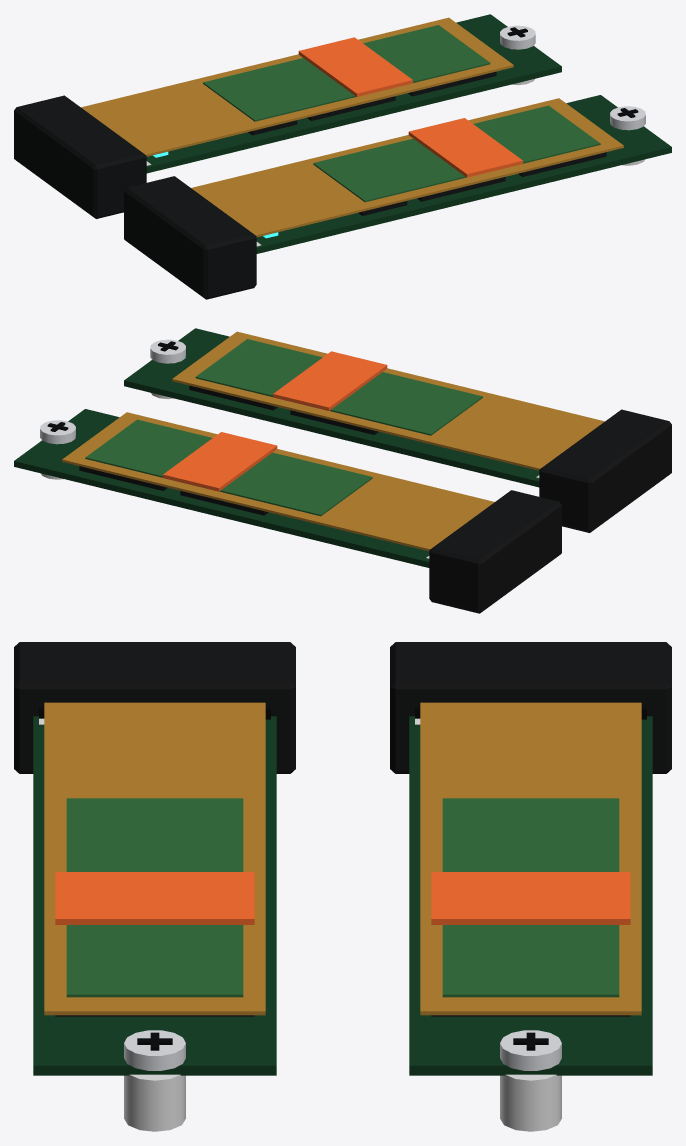
File: hwm_sto_ssd_480gb.glb
The picture shows the model from 3 angles, top to bottom: view 1: azimuth 30°, elevation 25°; view 2: azimuth 150°, elevation 25°; view 3: azimuth 270°, elevation 25°; orthographic projection. The views are drawn at different scales.
Parts seen in each view (by area): view 1: SSD_0, SSD_1, Slots, Screw_0, Screw_1; view 2: SSD_1, SSD_0, Slots, Screw_1, Screw_0; view 3: SSD_0, SSD_1, Slots, Screw_0, Screw_1.
Part boxes in pixels (x1=…): SSD_0: x1=81, y1=14, x2=561, y2=173; SSD_1: x1=191, y1=95, x2=671, y2=253; Slots: x1=14, y1=45, x2=645, y2=299; Screw_0: x1=500, y1=25, x2=535, y2=49; Screw_1: x1=610, y1=106, x2=645, y2=130; SSD_1: x1=124, y1=328, x2=604, y2=487; SSD_0: x1=14, y1=409, x2=494, y2=567; Slots: x1=40, y1=359, x2=671, y2=613; Screw_1: x1=150, y1=339, x2=185, y2=363; Screw_0: x1=40, y1=420, x2=75, y2=444; SSD_0: x1=409, y1=702, x2=652, y2=1075; SSD_1: x1=33, y1=702, x2=276, y2=1075; Slots: x1=14, y1=642, x2=671, y2=1131; Screw_0: x1=500, y1=1030, x2=561, y2=1070; Screw_1: x1=124, y1=1030, x2=185, y2=1070.
Size of the model in its own units: 0.0855 by 0.0092 by 0.0595.
